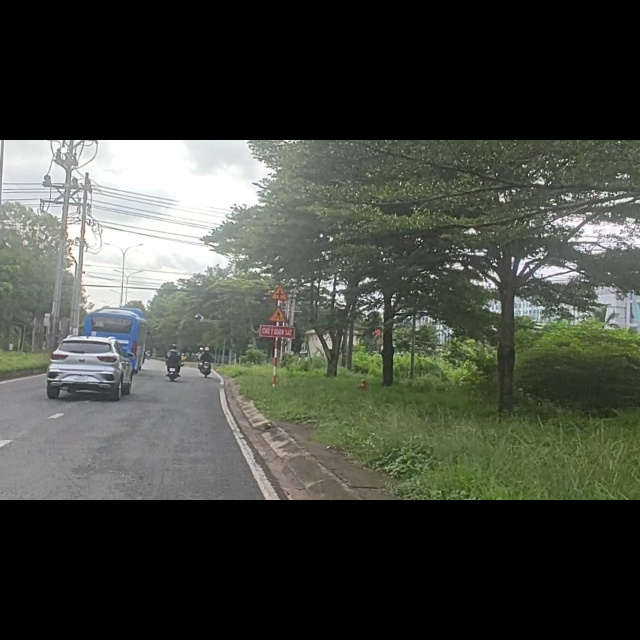bien_nguy_hiem: (268, 292, 292, 325), (270, 254, 289, 286)
